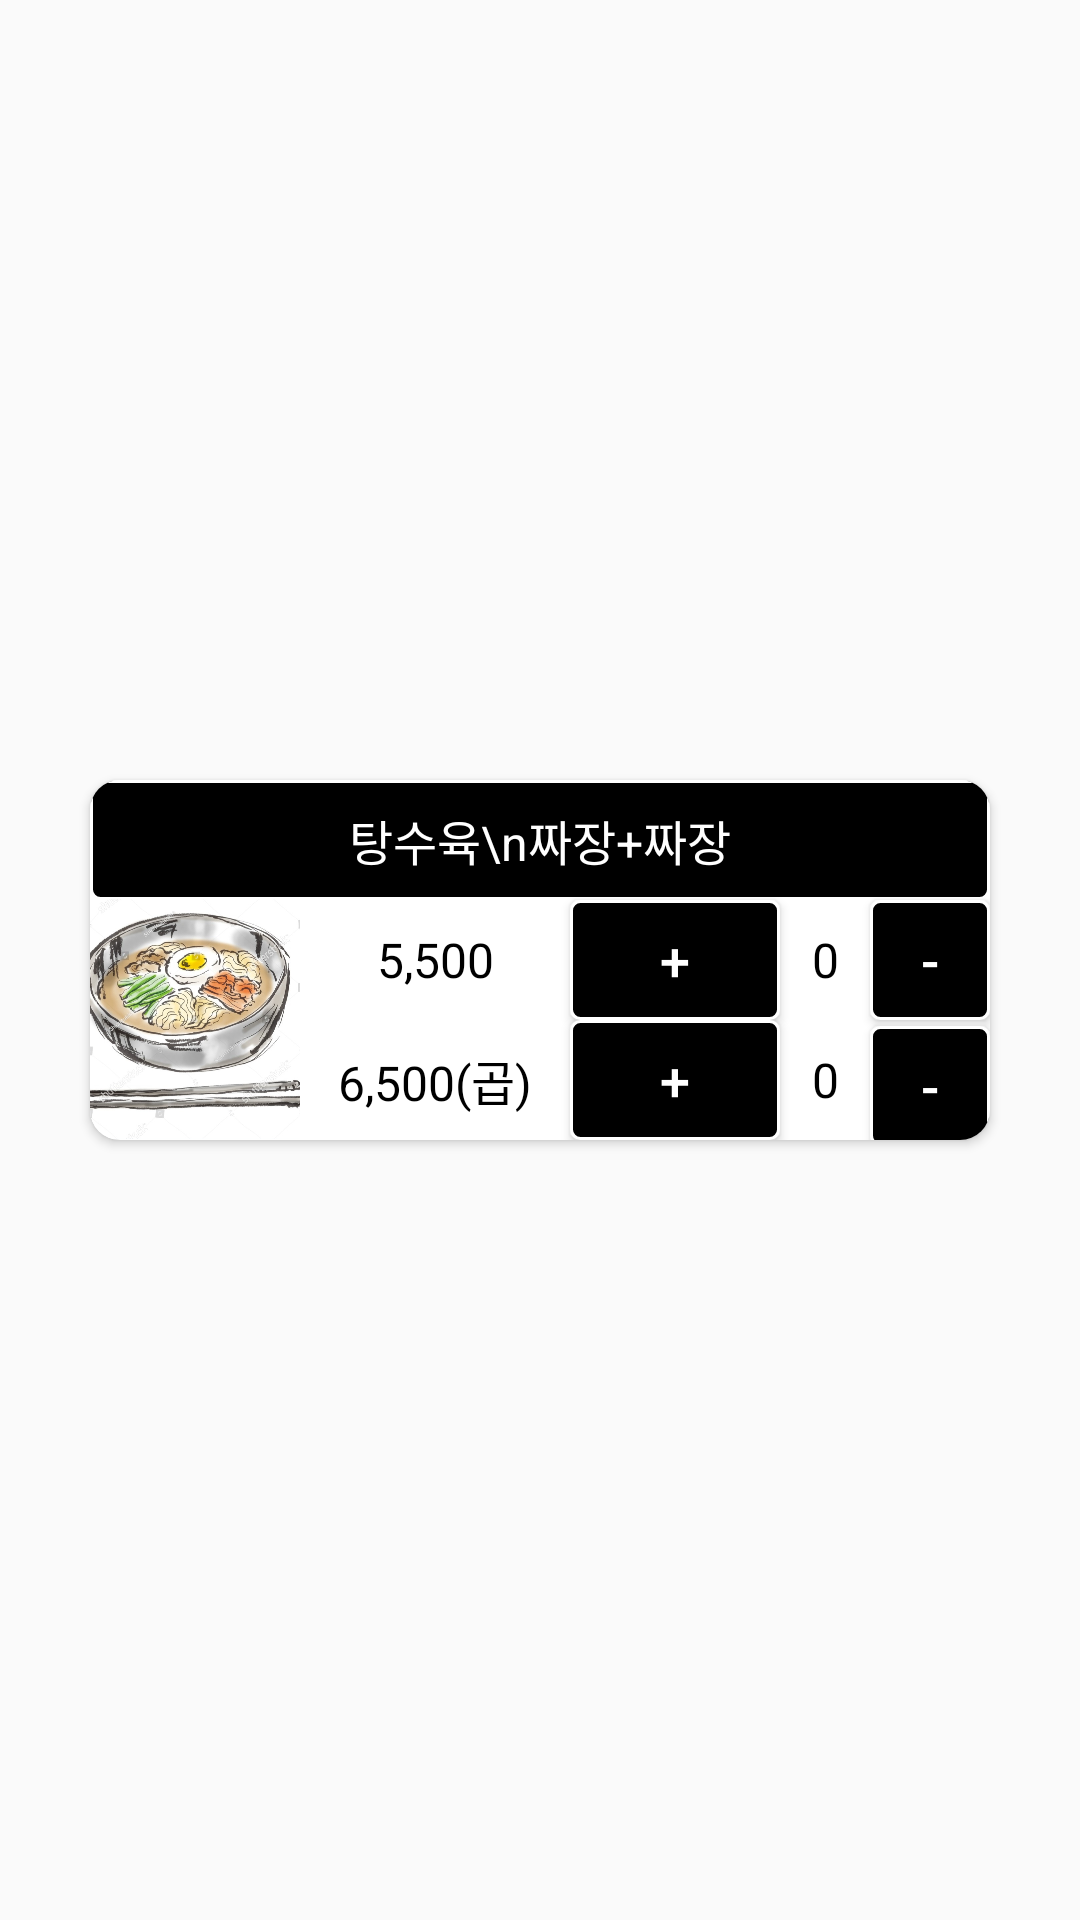

Named icons in this screenshot (1080px×1920px) and their centers, point (x, y):
nuddle: point (195, 1026)
